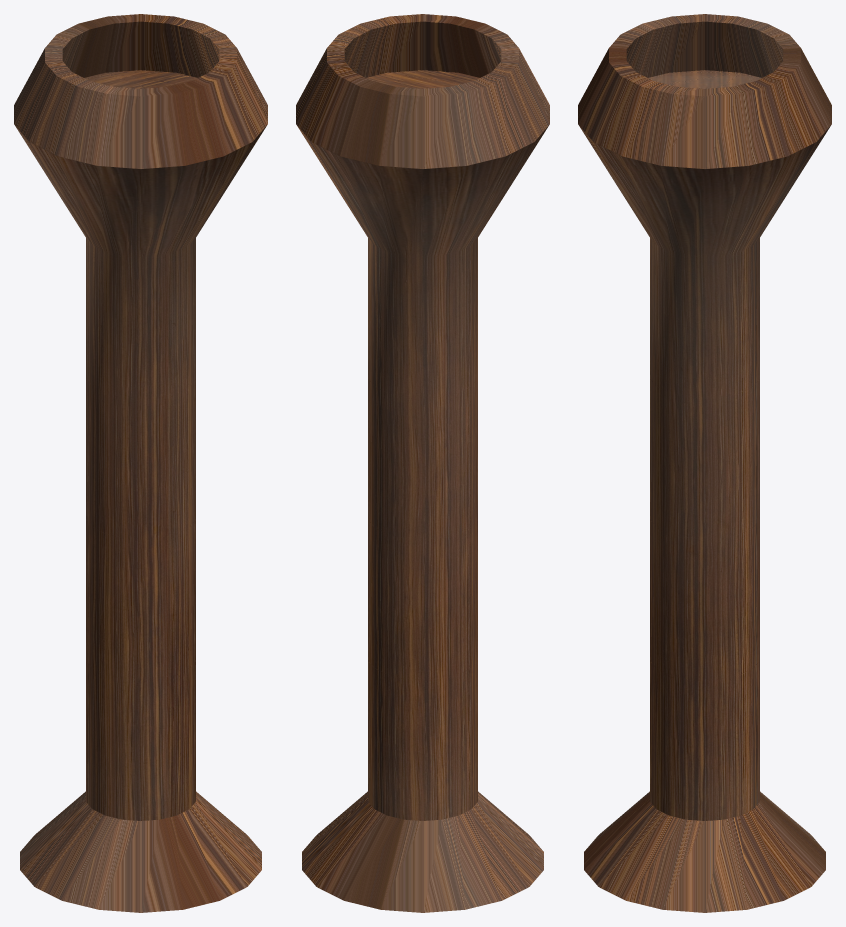
Rendered from torch.FBX.
The picture shows the model from 3 angles, left to right: view 1: azimuth 30°, elevation 25°; view 2: azimuth 150°, elevation 25°; view 3: azimuth 270°, elevation 25°; orthographic projection.
Parts seen in each view (by area): view 1: Torch; view 2: Torch; view 3: Torch.
Boxes of the visible parts, x1,y1,x2,y2 form: Torch: [14, 14, 267, 912]; Torch: [296, 14, 549, 912]; Torch: [578, 14, 831, 912].
Bounding box in the file's own units: 7.73 × 26.65 × 7.61.
1 material, 1 textured.
